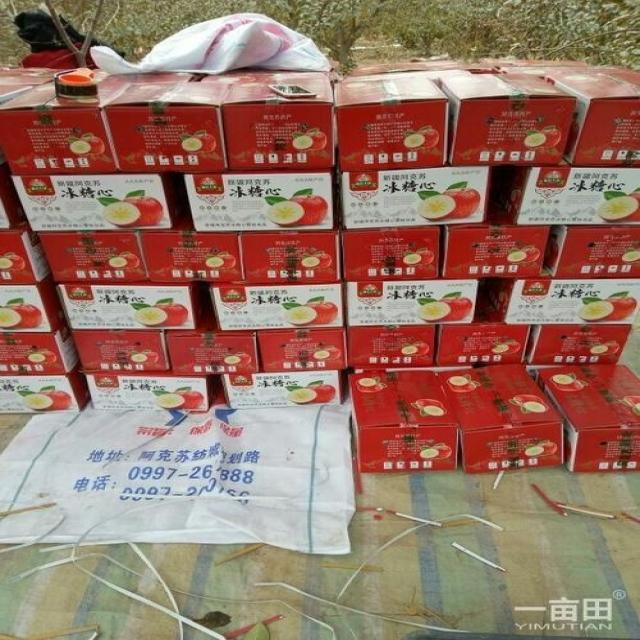box: (0, 74, 137, 176), (436, 364, 564, 471), (348, 367, 474, 472), (439, 74, 576, 166), (525, 365, 640, 471), (105, 82, 230, 173), (333, 75, 451, 171), (220, 77, 337, 170), (173, 169, 339, 231), (10, 172, 184, 231), (493, 157, 640, 226), (335, 167, 494, 229), (480, 263, 640, 324), (544, 69, 639, 166), (440, 197, 553, 278), (142, 211, 244, 282), (433, 293, 532, 366), (58, 281, 205, 330), (200, 280, 344, 329), (342, 279, 480, 327), (83, 367, 219, 411), (37, 230, 148, 283), (338, 225, 443, 280), (168, 315, 259, 375), (241, 229, 342, 281), (216, 369, 346, 409), (544, 225, 640, 278), (0, 362, 90, 414), (525, 324, 634, 366), (0, 321, 79, 376), (344, 324, 439, 369), (69, 330, 170, 371), (255, 327, 347, 371), (0, 273, 67, 332), (0, 220, 52, 286), (0, 154, 27, 229), (0, 65, 68, 85), (0, 83, 37, 105)
